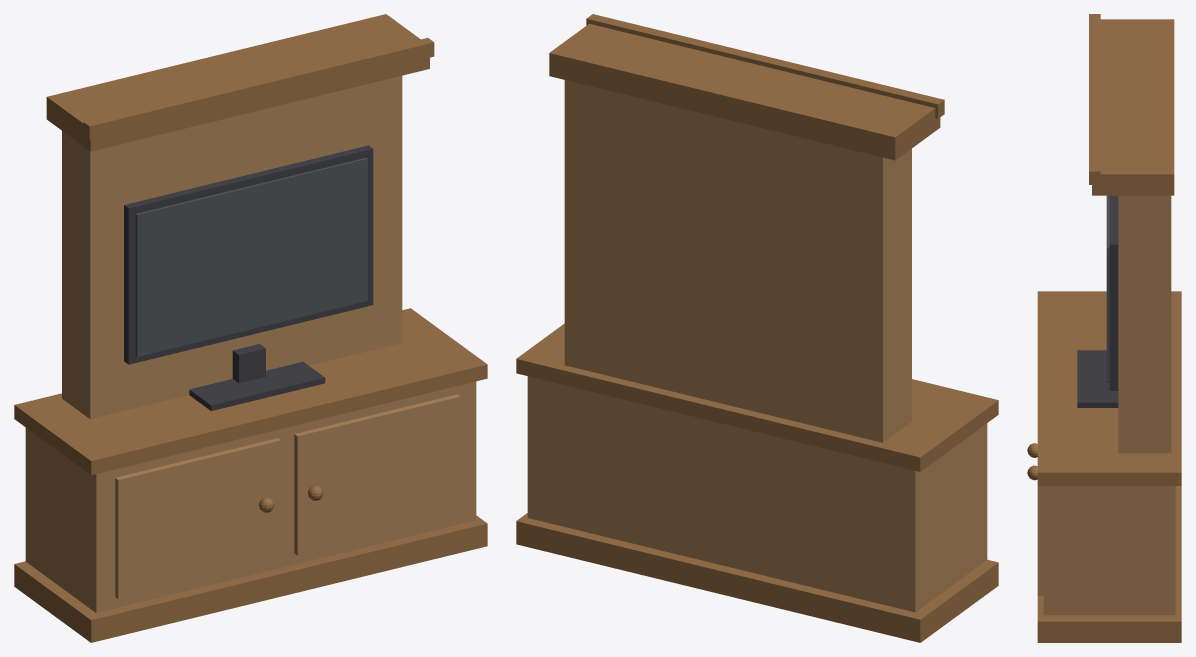
The model's file is TV_Console.fbx.
3 renders of one model, left to right at view 1: azimuth 30°, elevation 25°; view 2: azimuth 150°, elevation 25°; view 3: azimuth 270°, elevation 25°, orthographic. The views are drawn at different scales.
Parts seen in each view (by area): view 1: TV_Entertainment_Console; view 2: TV_Entertainment_Console; view 3: TV_Entertainment_Console.
Boxes of the visible parts, bbox=[...] form: TV_Entertainment_Console: bbox=[14, 14, 487, 642]; TV_Entertainment_Console: bbox=[516, 14, 998, 642]; TV_Entertainment_Console: bbox=[1027, 14, 1181, 642].
Size of the model in its own units: 146 by 173 by 52.5.
